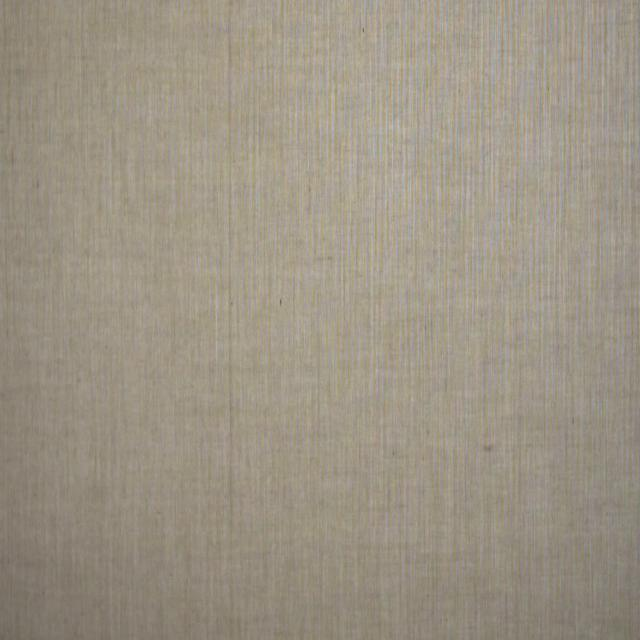dirty: (482, 442, 496, 454)
